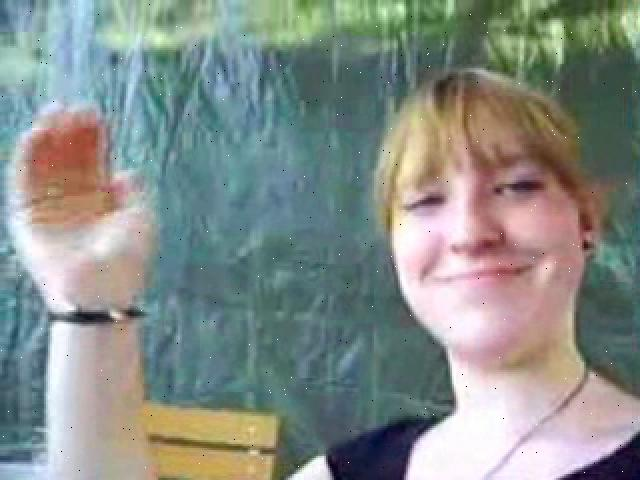T: (11, 69, 638, 476)
